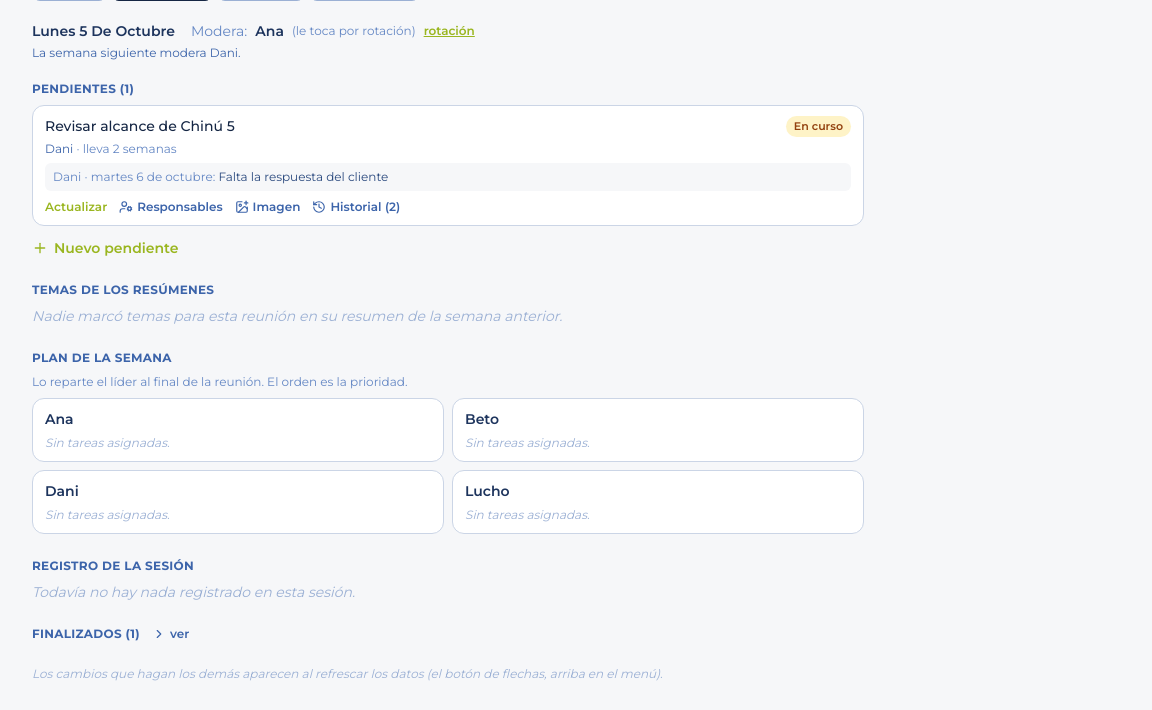
it: los pendientes › los finalizados quedan aparte, plegados
The width and height of the screenshot is (1152, 710).
(page scrolled)
Expected: the text "Ya cerrado" is not shown
Click the button "ver". click: (171, 634)
box: [152,626,189,642]
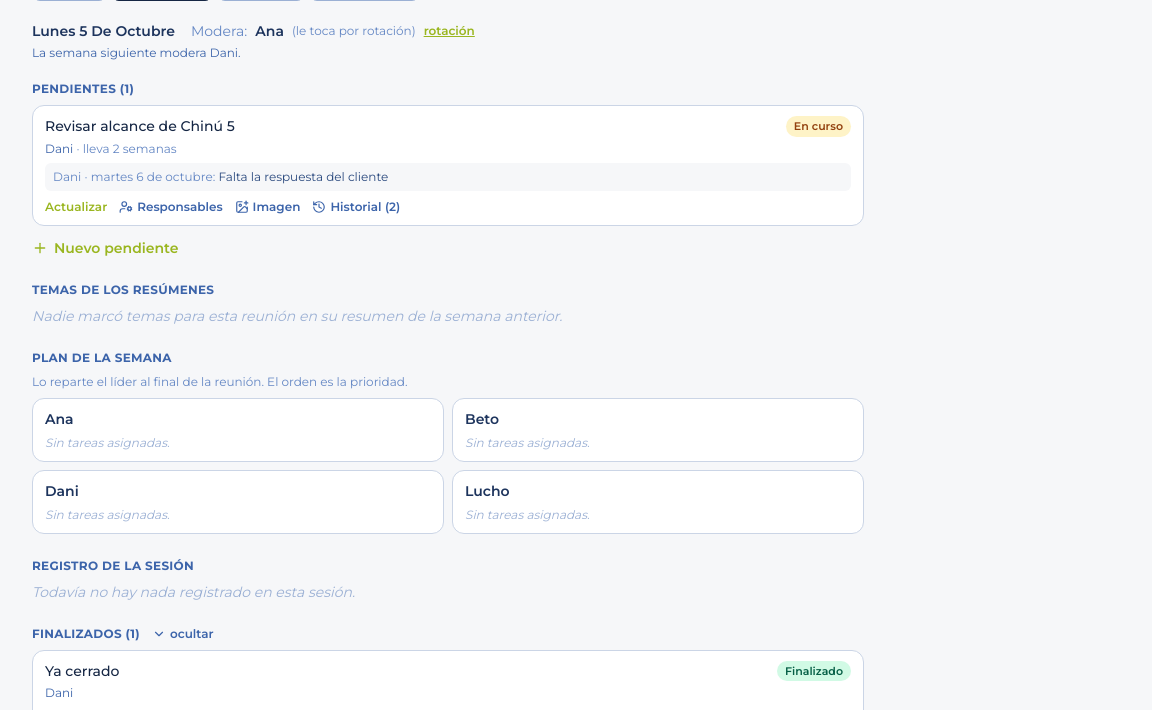
Expected: the text "Ya cerrado" is shown, [45,662,119,680]
